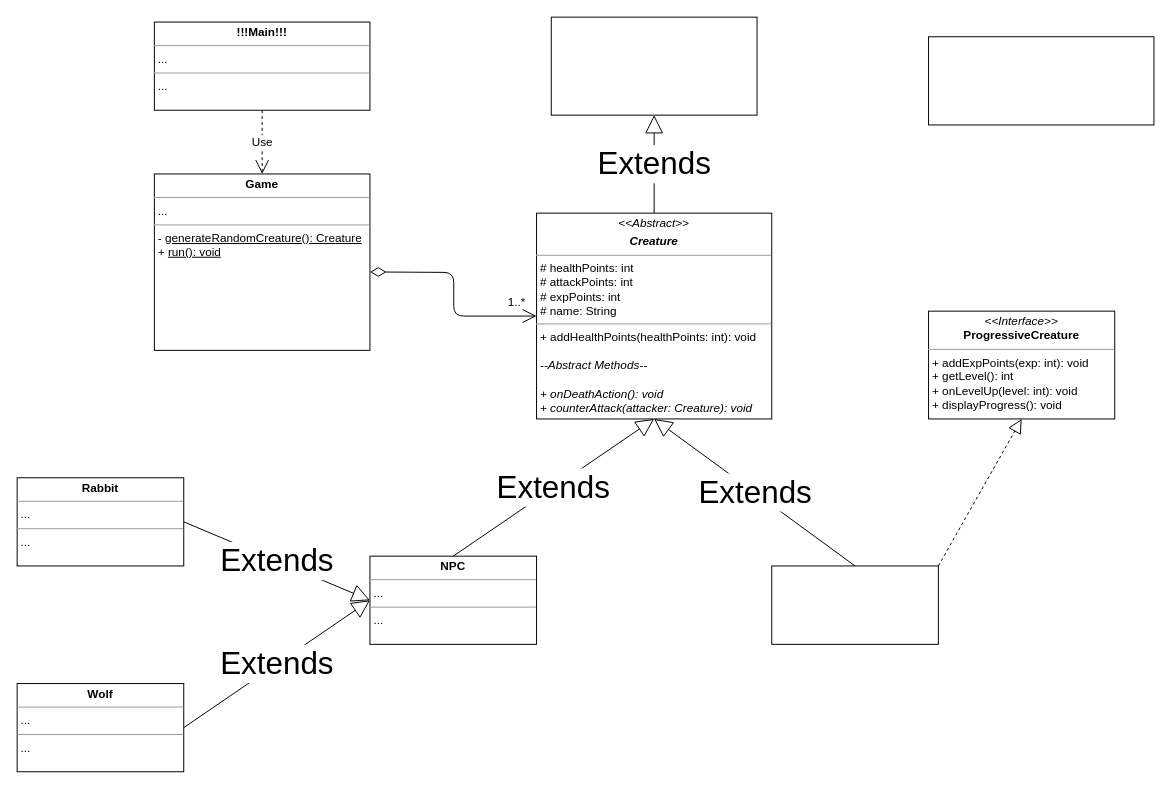
The diagram is 1171 pixels wide and 789 high, and some of its shapes have lost their labels. Here are the shapes that lost their labels. From the top down, the box of each, then its label:
(550, 16, 757, 115): Entity # x: double # y: double + getInfo(): String
(928, 36, 1154, 125): Notes: 1) Show what class uses which objects inside them +
(771, 565, 938, 644): Player ... + attack(victim: Creature): void
